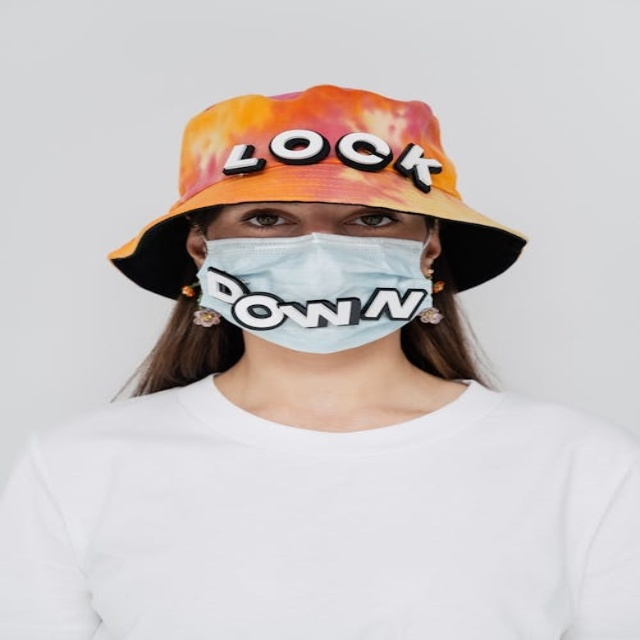Mascara: (193, 223, 439, 353)
Sin_gafas: (232, 203, 401, 243)
